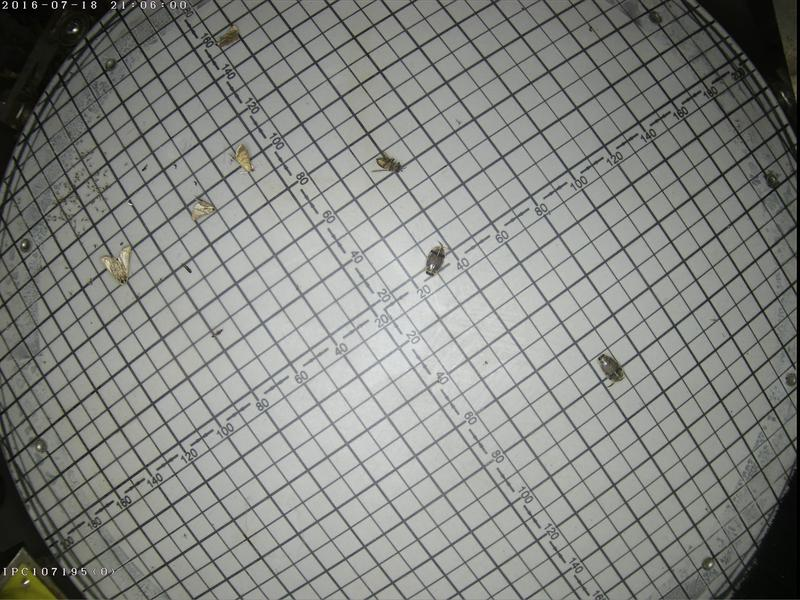Rice Leaf Roller: (227, 141, 256, 177)
